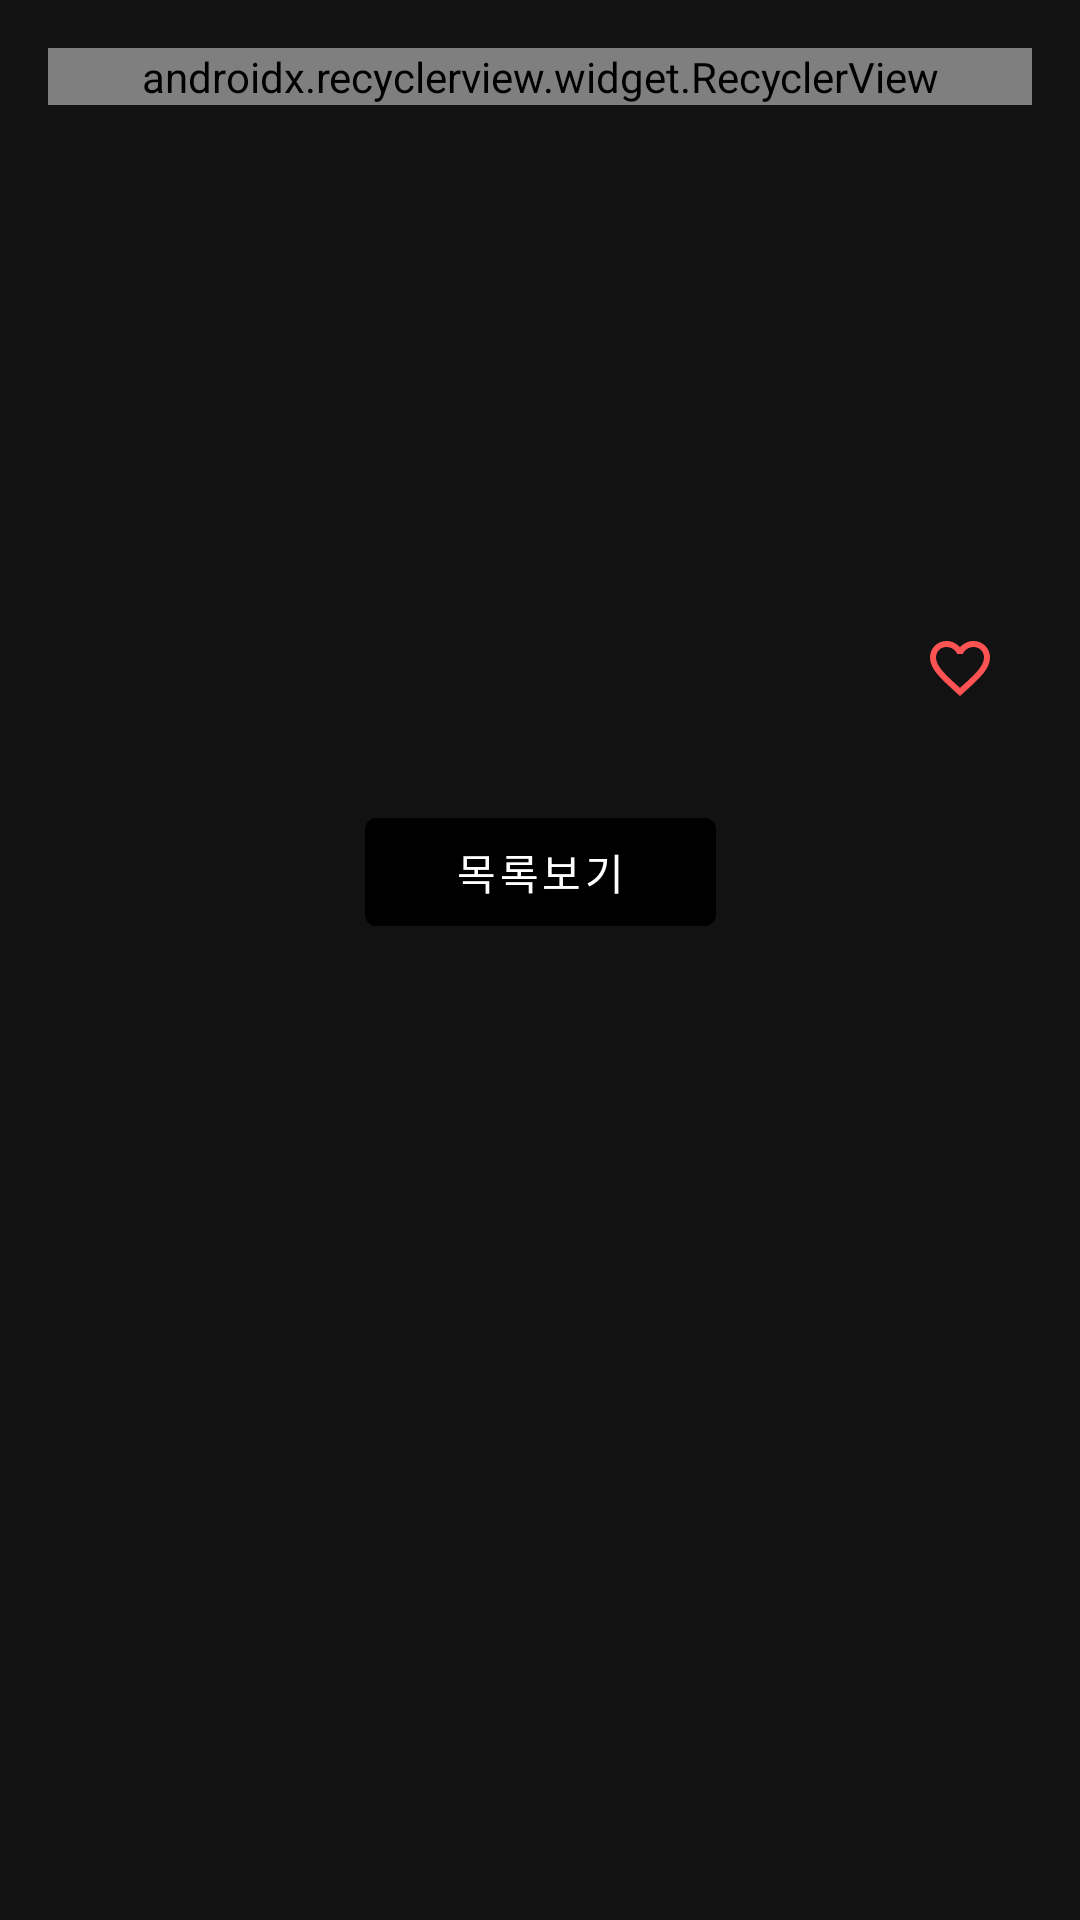

Where to tap for icons on this 1080 x 1920 app screen, as [x,y]:
세션 좋아요 버튼: [960,668]
